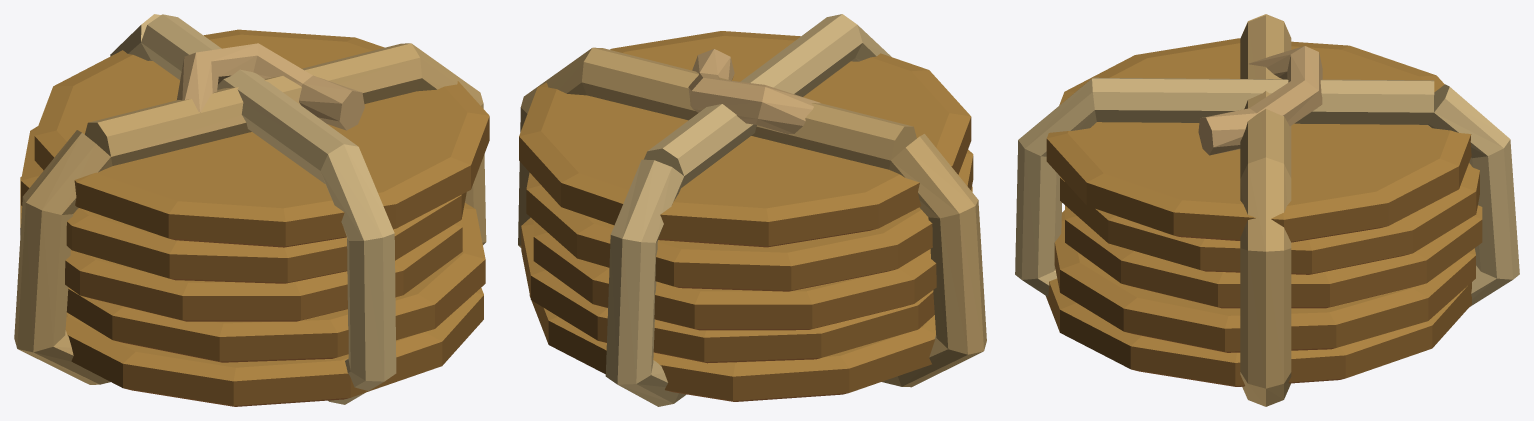
The model's file is duenenmeer_13.glb.
The picture shows the model from 3 angles, left to right: view 1: azimuth 30°, elevation 25°; view 2: azimuth 150°, elevation 25°; view 3: azimuth 270°, elevation 25°; orthographic projection. The views are drawn at different scales.
Visible parts, largest first — view 1: duenenmeer_13; view 2: duenenmeer_13; view 3: duenenmeer_13.
Part boxes in pixels (left/top/right/bottom): duenenmeer_13: left=14, top=14, right=489, bottom=406; duenenmeer_13: left=518, top=14, right=986, bottom=406; duenenmeer_13: left=1015, top=14, right=1519, bottom=406.
Bounding box in the file's own units: 2 × 1.17 × 1.99.
